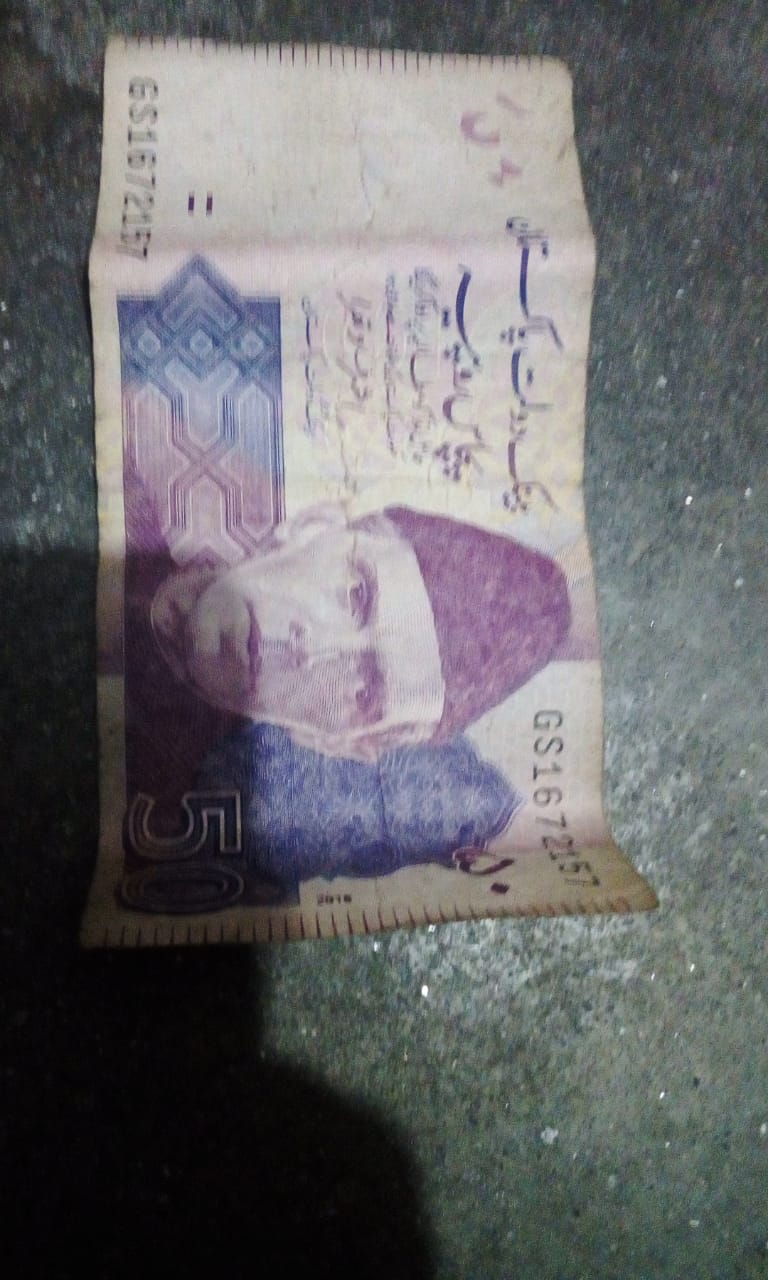50 rupee: (52, 14, 667, 999)
